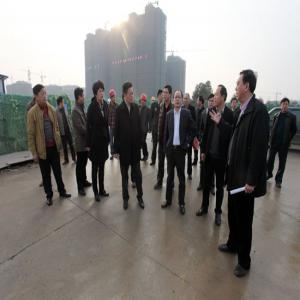none: (236, 70, 257, 104), (34, 84, 49, 106), (215, 86, 228, 108), (123, 82, 135, 104), (94, 81, 106, 102), (74, 87, 86, 106), (173, 91, 184, 110), (280, 98, 291, 115), (164, 85, 173, 103), (57, 97, 66, 110), (208, 95, 216, 109), (197, 97, 205, 109), (157, 90, 164, 103), (184, 94, 191, 106), (232, 98, 238, 111)
red: (109, 91, 118, 104), (141, 93, 148, 107)
yellow: (152, 98, 156, 105)
